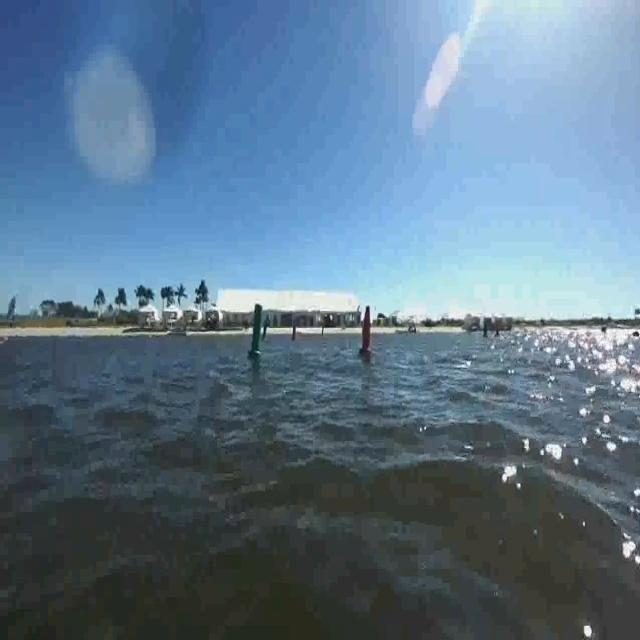green-column-buoy: (248, 303, 267, 360)
red-column-buoy: (358, 306, 375, 358)
